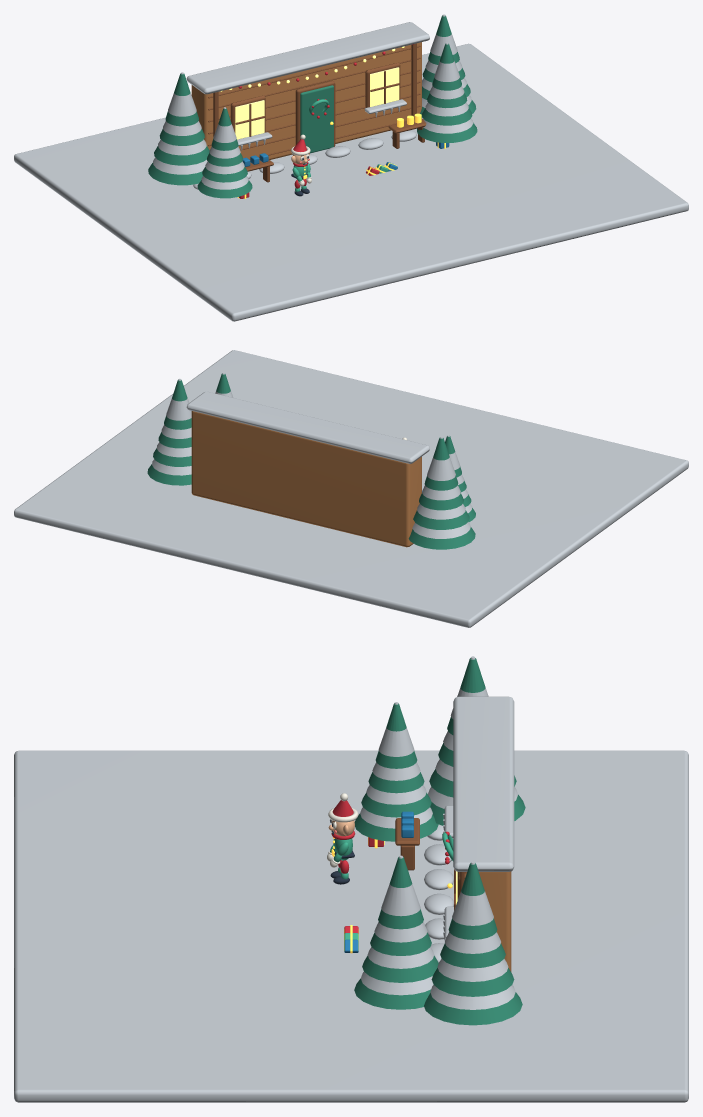
File: chapter-12.glb
The picture shows the model from 3 angles, top to bottom: view 1: azimuth 30°, elevation 25°; view 2: azimuth 150°, elevation 25°; view 3: azimuth 270°, elevation 25°; orthographic projection. The views are drawn at different scales.
Parts seen in each view (by area): view 1: Schneeboden, Werkstatt, Schneegesims, Wichteltür, Warmes Fenster, Warmes Fenster.001, Tannenzweig.008, Tannenzweig.009, Türrahmen, Tannenzweig.004, Tannenzweig.011, Schnee.011 (+6 smaller); view 2: Schneeboden, Werkstatt, Schneegesims, Tannenzweig.008, Tannenzweig.009, Tannenzweig.011, Schnee.008, Schnee.011, Tannenzweig.015, Tannenzweig.012, Tannenzweig.010, Schnee.009 (+1 smaller); view 3: Schneeboden, Schneegesims, Werkstatt, Tannenzweig.012, Tannenzweig.013, Tannenzweig.015, Schnee.012, Tannenzweig.005, Tannenzweig.004, Schnee.015, Tannenzweig.007, Schnee.013 (+14 smaller).
Boxes of the visible parts, x1,y1,x2,y2 form: Schneeboden: (14, 43, 688, 321); Werkstatt: (191, 42, 421, 160); Schneegesims: (186, 22, 429, 94); Wichteltür: (300, 85, 333, 153); Warmes Fenster: (235, 100, 264, 139); Warmes Fenster.001: (370, 67, 399, 106); Tannenzweig.008: (148, 163, 202, 185); Tannenzweig.009: (154, 146, 209, 165); Türrahmen: (295, 81, 335, 146); Tannenzweig.004: (417, 122, 477, 142); Tannenzweig.011: (165, 73, 198, 126); Schnee.011: (168, 72, 196, 116); Schneeboden: (14, 350, 688, 627); Werkstatt: (191, 411, 421, 547); Schneegesims: (186, 391, 429, 463); Tannenzweig.008: (408, 527, 475, 549); Tannenzweig.009: (413, 510, 469, 529); Tannenzweig.011: (424, 437, 458, 490); Schnee.008: (412, 522, 470, 538); Schnee.011: (427, 436, 455, 480); Tannenzweig.015: (164, 380, 191, 429); Tannenzweig.012: (147, 464, 191, 485); Tannenzweig.010: (419, 493, 463, 510); Schnee.009: (417, 504, 465, 519); Schneeboden: (14, 750, 688, 1102); Schneegesims: (453, 696, 514, 871); Werkstatt: (466, 871, 511, 971); Tannenzweig.012: (424, 992, 522, 1025); Tannenzweig.013: (431, 968, 514, 996); Tannenzweig.015: (448, 863, 497, 939); Schnee.012: (430, 985, 515, 1009); Tannenzweig.005: (362, 955, 438, 982); Tannenzweig.004: (354, 978, 430, 1009); Schnee.015: (452, 861, 493, 925); Tannenzweig.007: (378, 857, 423, 929); Schnee.013: (437, 959, 508, 981).
Bounding box in the file's own units: 18 × 4.39 × 15.
